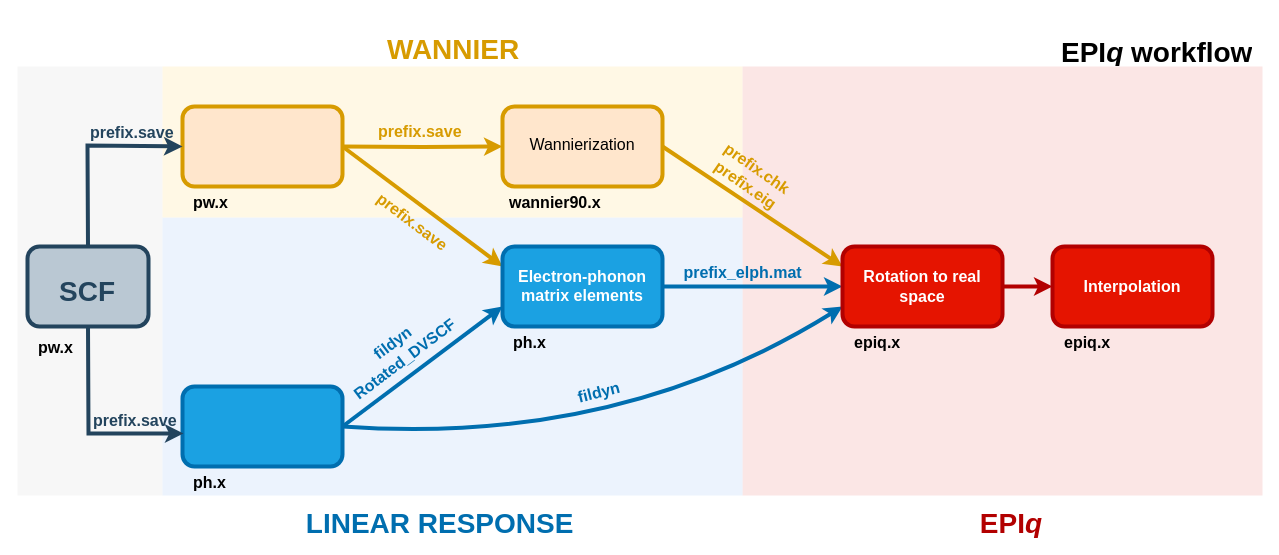
Image size: 1279x555. Some labels were removed from this diagram. The shapes that lost their labels are listed below. From the top down, each one's centre as x and y in pixels, then its label:
At [262,146]: "Non self-consistent calculation".
At [262,426]: "Linear response calculation".
